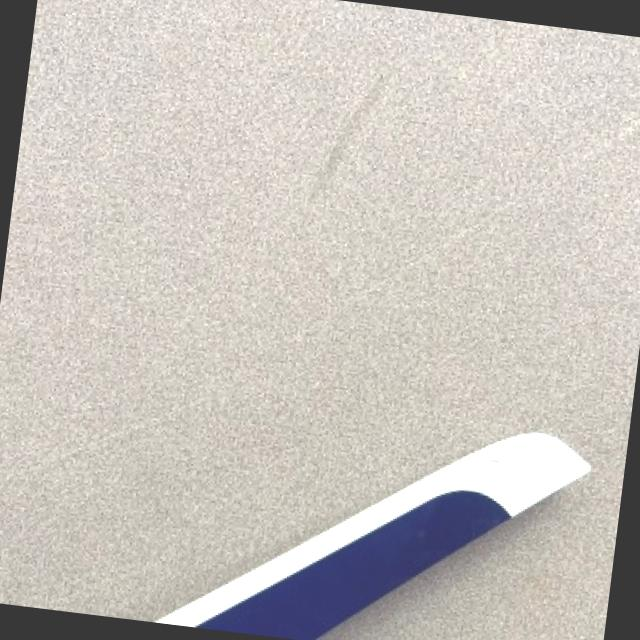healthy: (161, 432, 592, 640)
